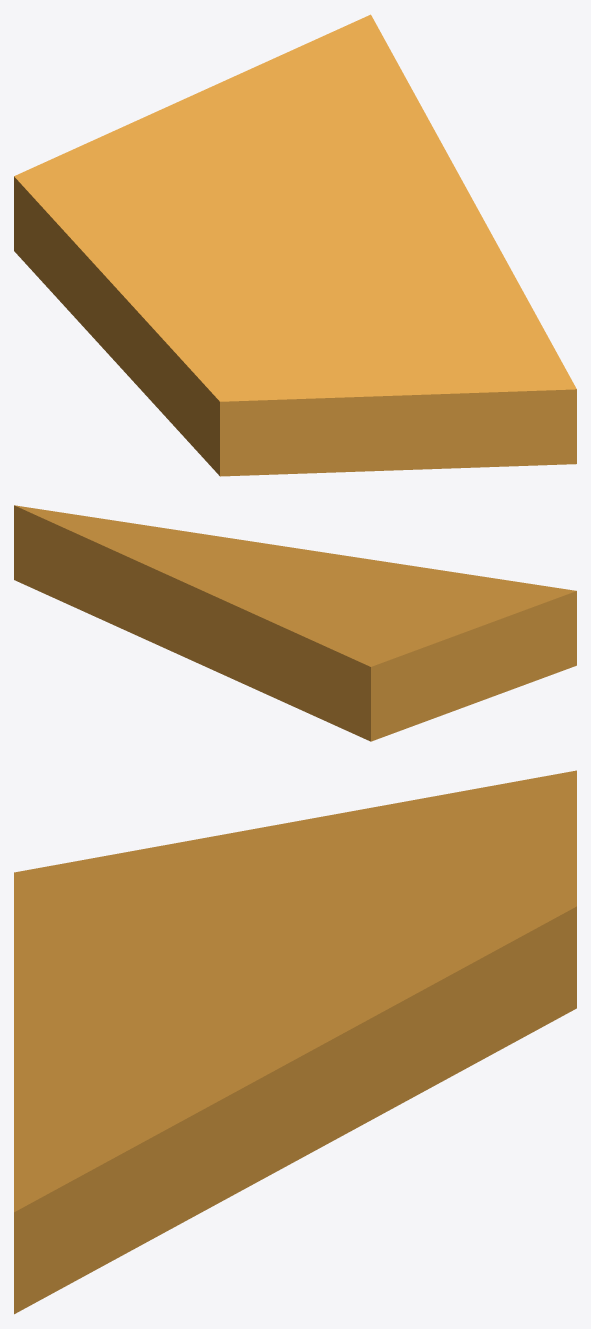
The model's file is tile-hill-askew-valley-corner.glb.
3 views of the same model, one above another, from view 1: azimuth 30°, elevation 25°; view 2: azimuth 150°, elevation 25°; view 3: azimuth 270°, elevation 25° (orthographic). The views are drawn at different scales.
Visible parts, largest first — view 1: tile-hill-askew-valley-corner; view 2: tile-hill-askew-valley-corner; view 3: tile-hill-askew-valley-corner.
Part boxes in pixels (x1,y1,x2,y2): tile-hill-askew-valley-corner: (14, 14, 576, 476); tile-hill-askew-valley-corner: (14, 505, 576, 741); tile-hill-askew-valley-corner: (14, 770, 576, 1314).
Size of the model in its own units: 30 by 24 by 30.
